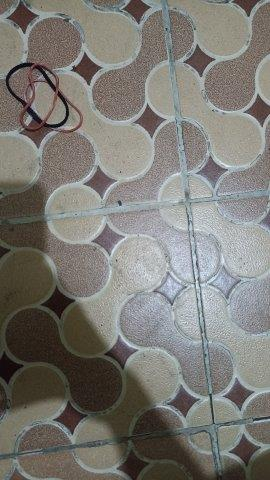karet: (5, 61, 83, 134)
